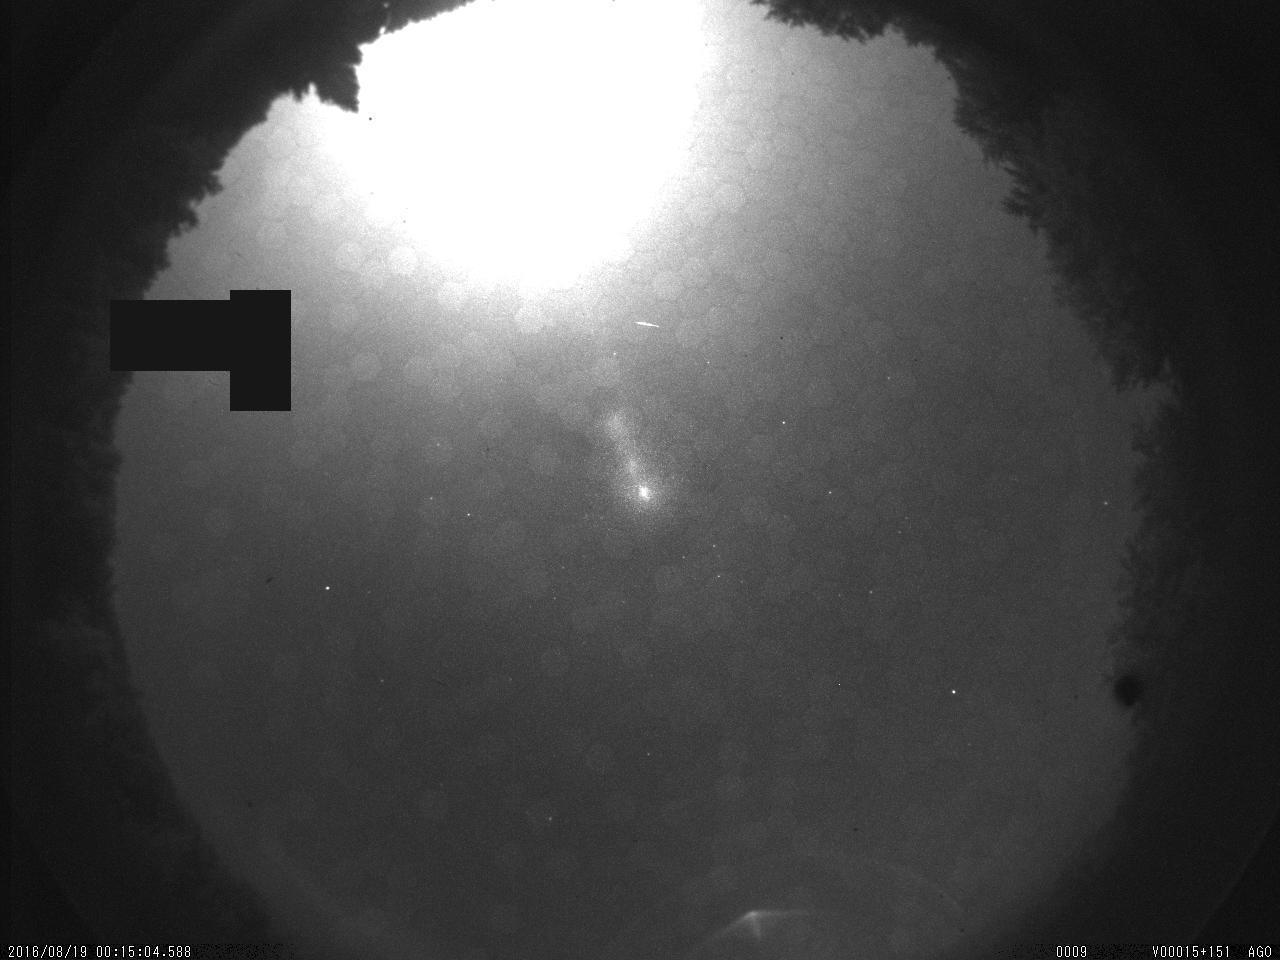meteor: (626, 316, 669, 334)
